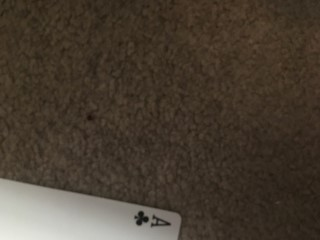AceOfClubs: (1, 178, 182, 240)
